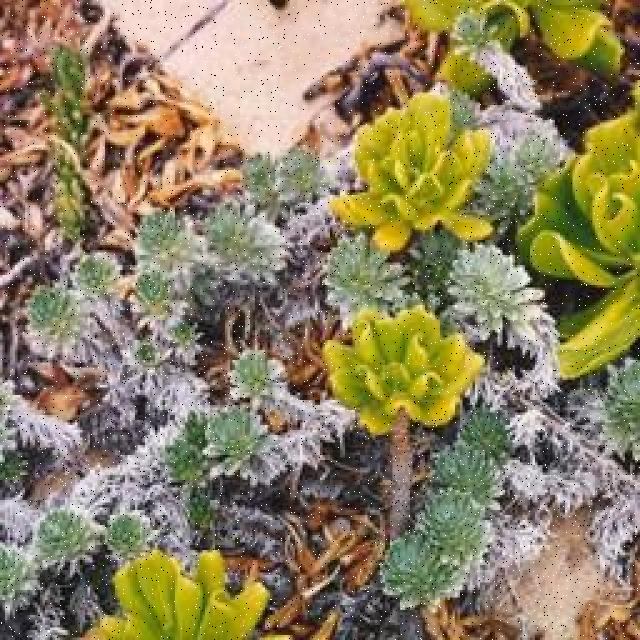reefs: (26, 40, 296, 366), (322, 303, 487, 541), (517, 79, 638, 380), (380, 408, 515, 611), (324, 92, 494, 250), (321, 227, 544, 339), (402, 0, 625, 96), (101, 548, 273, 638), (154, 409, 282, 520), (0, 510, 146, 600), (461, 131, 561, 244), (240, 144, 329, 204), (597, 360, 638, 463), (228, 350, 290, 411)
